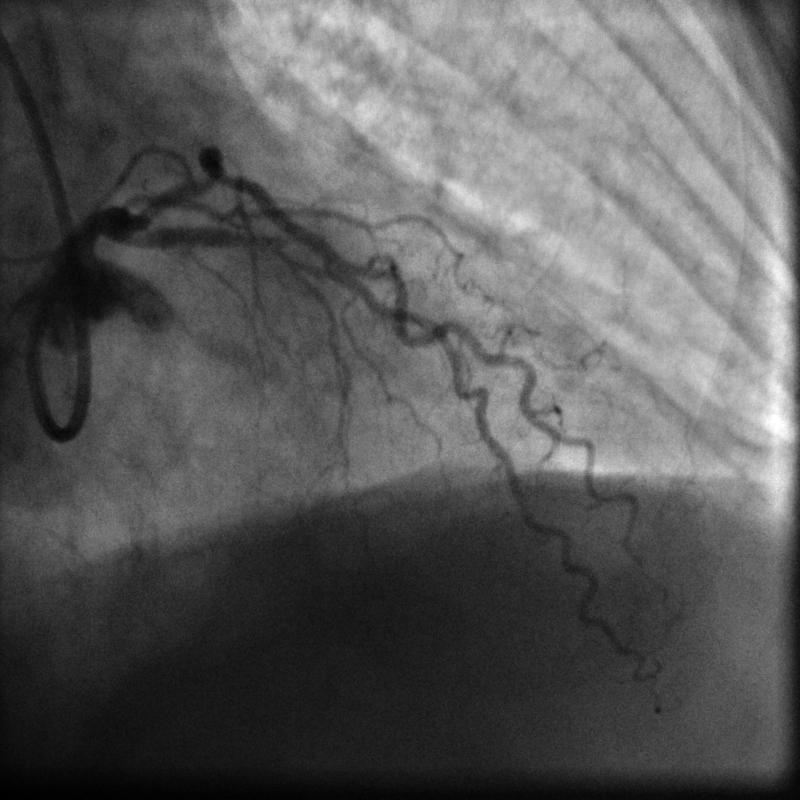Stenosis: (254, 231, 322, 278)
